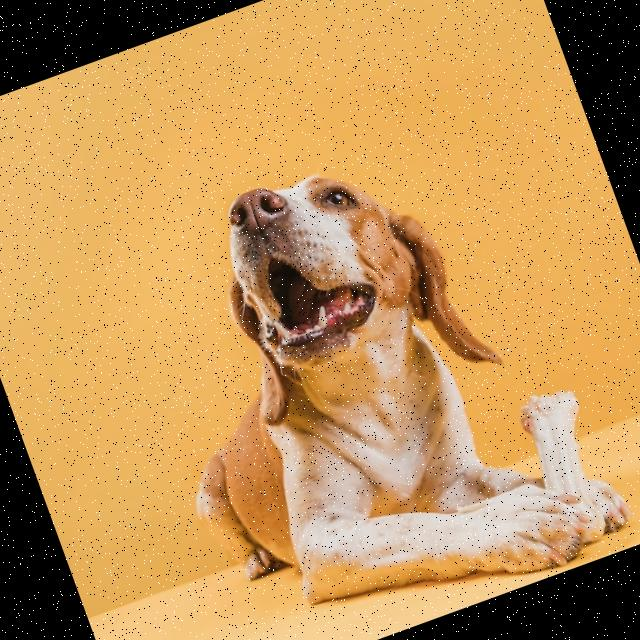Dog: (101, 106, 640, 640)
